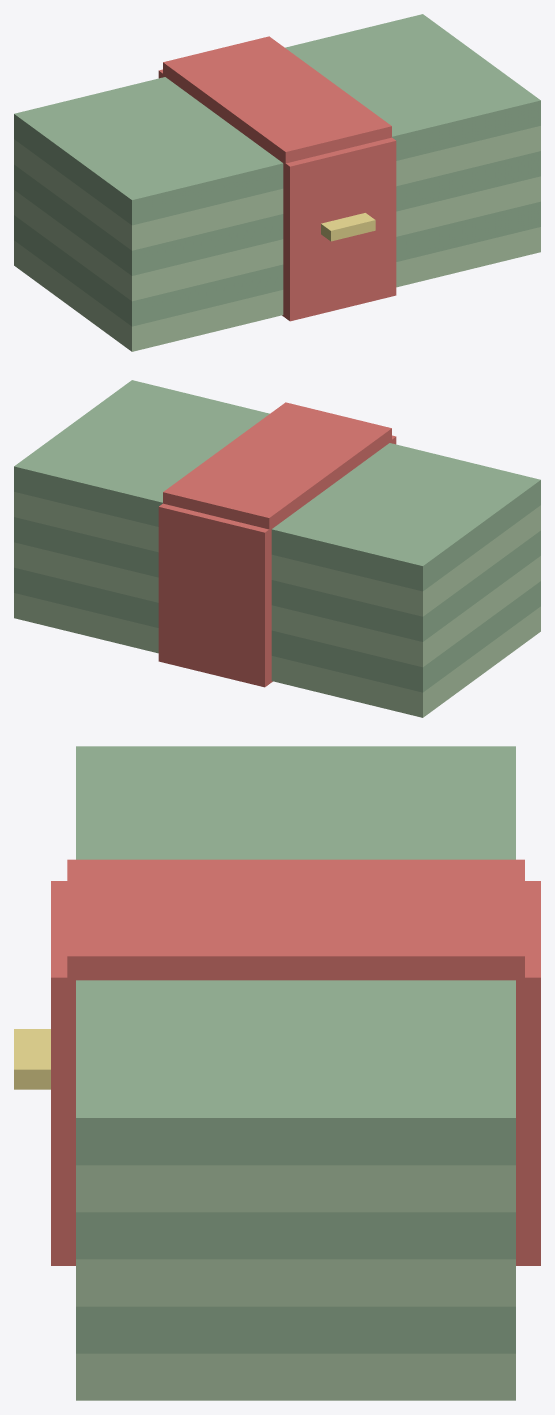
The model's file is cash.glb.
The picture shows the model from 3 angles, top to bottom: view 1: azimuth 30°, elevation 25°; view 2: azimuth 150°, elevation 25°; view 3: azimuth 270°, elevation 25°; orthographic projection. The views are drawn at different scales.
Visible parts, largest first — view 1: note_5, band_f, band_top, note_0, note_1, note_3, note_2, note_4, seal; view 2: note_5, band_b, band_top, note_0, note_1, note_3, note_2, note_4; view 3: note_5, band_top, note_0, note_1, note_2, note_3, note_4, band_f, band_b, seal.
Part boxes in pixels (box(x1,y1,x2,y2)): note_5: box(14, 14, 540, 225); band_f: box(282, 137, 396, 321); band_top: box(163, 36, 391, 166); note_0: box(14, 227, 540, 351); note_1: box(14, 201, 540, 326); note_3: box(14, 151, 540, 275); note_2: box(14, 176, 540, 301); note_4: box(14, 126, 540, 250); seal: box(321, 213, 375, 241); note_5: box(14, 380, 540, 591); band_b: box(158, 503, 272, 687); band_top: box(163, 402, 391, 532); note_0: box(14, 593, 540, 717); note_1: box(14, 567, 540, 692); note_3: box(14, 517, 540, 641); note_2: box(14, 542, 540, 667); note_4: box(14, 492, 540, 616); note_5: box(76, 746, 515, 1165); band_top: box(67, 859, 524, 984); note_0: box(76, 1353, 515, 1400); note_1: box(76, 1306, 515, 1353); note_2: box(76, 1259, 515, 1306); note_3: box(76, 1212, 515, 1259); note_4: box(76, 1165, 515, 1212); band_f: box(51, 881, 81, 1265); band_b: box(509, 881, 540, 1265); seal: box(14, 1029, 50, 1089).
Bounding box in the file's own units: 44 × 17.08 × 26.35.
